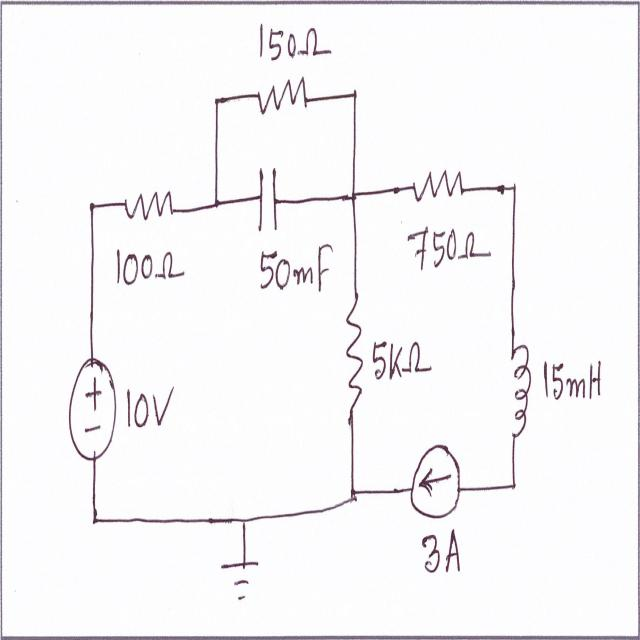capacitor: (256, 163, 286, 242)
current_source: (407, 427, 466, 522)
ground: (218, 558, 262, 612)
inductor: (507, 338, 533, 445)
resistor: (409, 155, 465, 218), (342, 288, 366, 422), (111, 183, 180, 225), (255, 71, 311, 122)
voltage_source: (66, 354, 119, 473)
